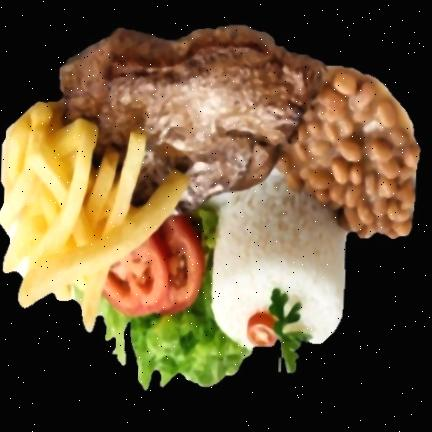beans: (281, 64, 419, 236)
meat: (56, 27, 319, 219)
potato: (0, 100, 189, 329)
rice: (210, 172, 347, 351)
salad: (97, 282, 250, 392)
tomato: (102, 211, 205, 317)
